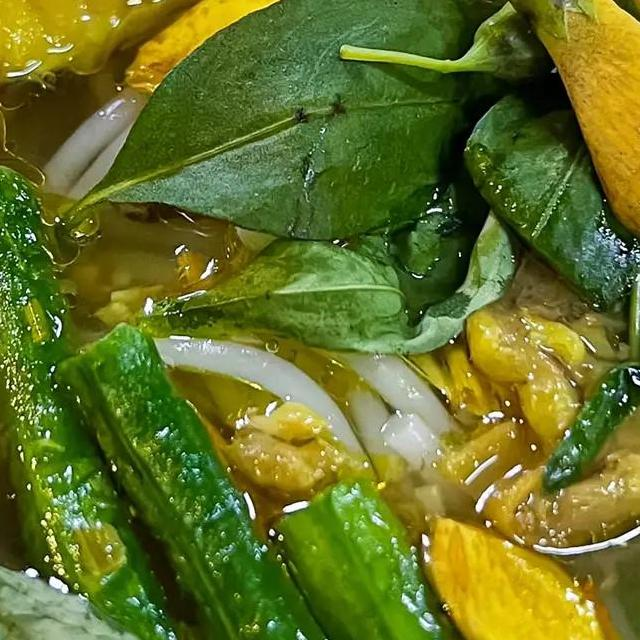bun: (139, 280, 480, 546)
bun ca: (0, 0, 640, 640)
rau ram: (45, 0, 570, 253), (0, 265, 327, 640), (111, 154, 545, 392), (456, 64, 640, 501)
